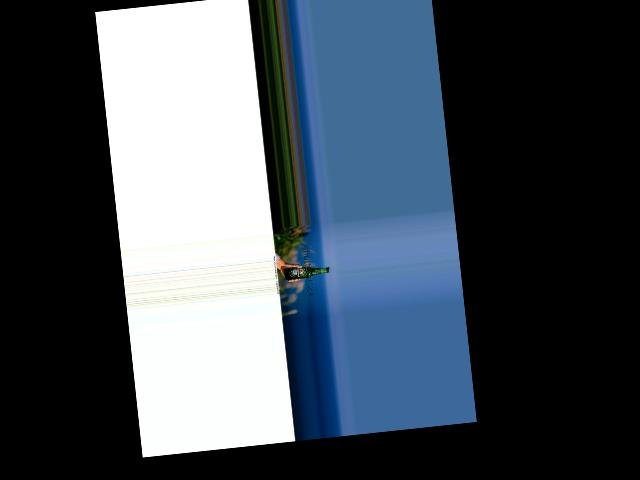beer: (283, 264, 329, 280)
